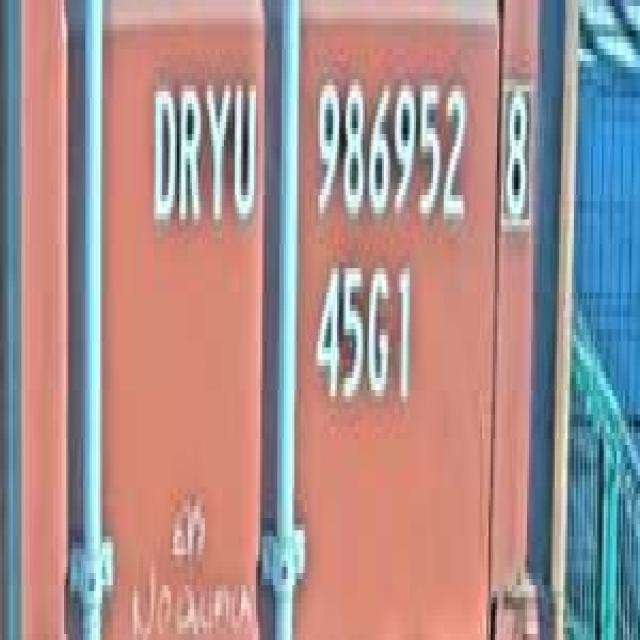dv: (497, 61, 538, 232)
owner: (145, 61, 260, 244)
serial: (307, 61, 472, 238)
size: (309, 244, 416, 426)
